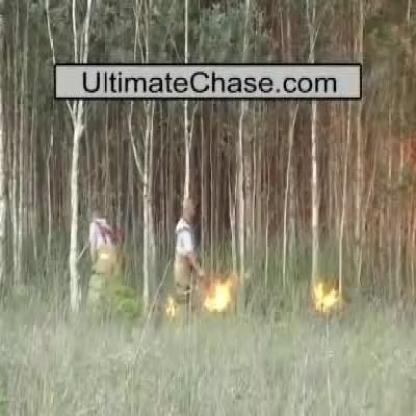foggia-v2-map80-epoch100 - v1 4323: (205, 285, 231, 311), (314, 285, 336, 311)
